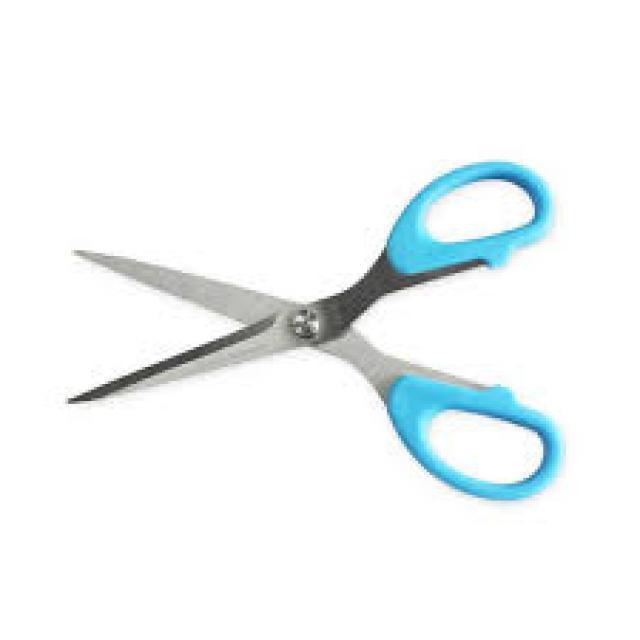scissor: (64, 161, 568, 504)
